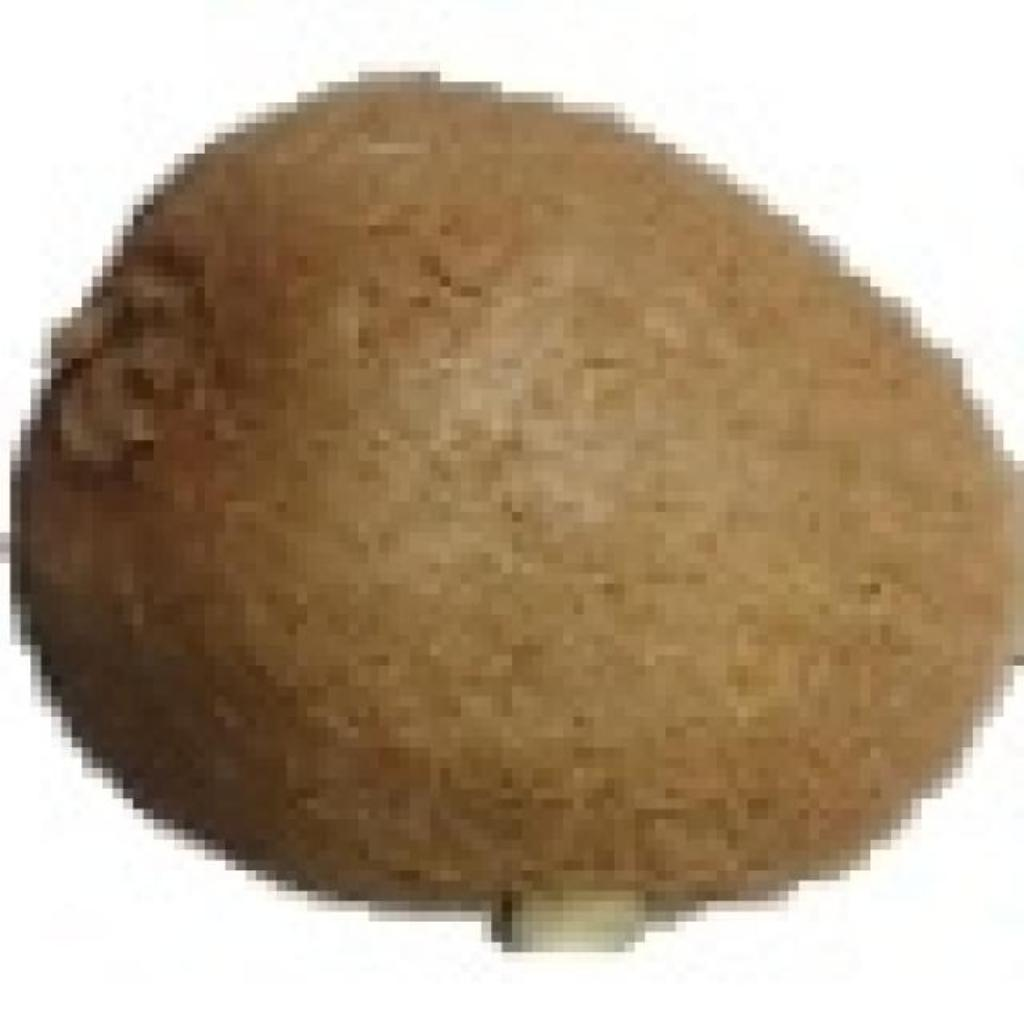kiwi: (31, 61, 1014, 922)
